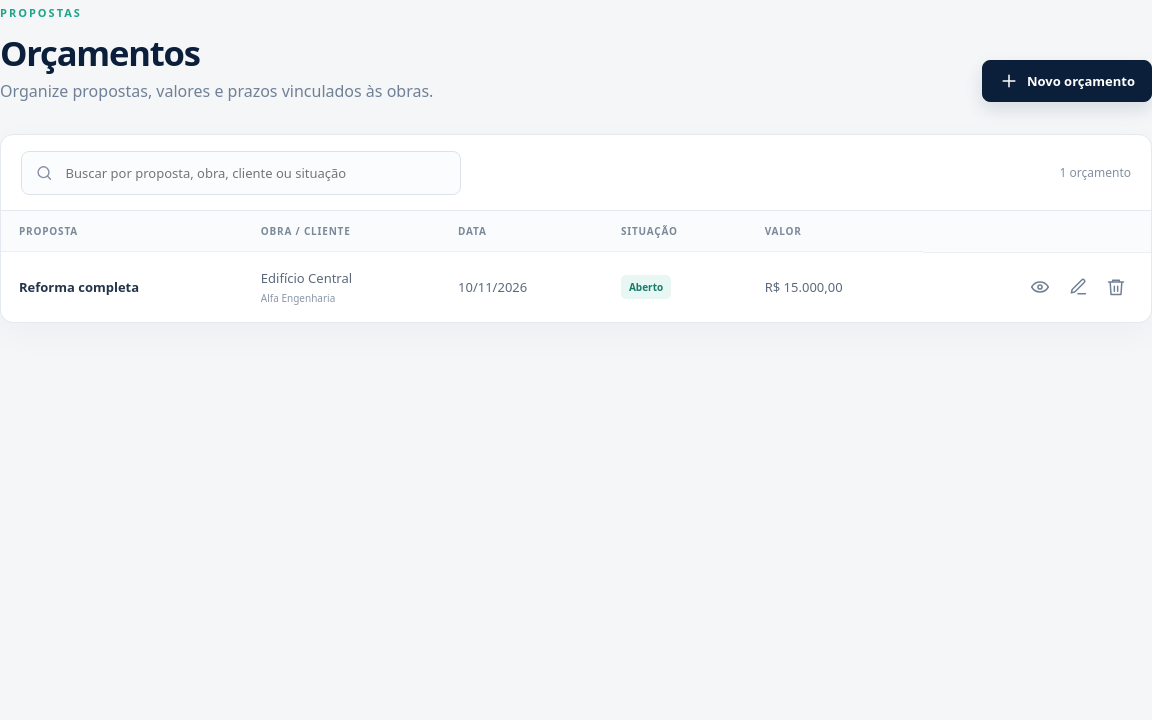
Test: módulo de orçamentos › avisa sobre remoção de itens e fluxos
Expected: the text "Reforma completa" is shown, [19,278,139,296]
Click the button named "Excluir Reforma completa". click: {"x": 1116, "y": 288}
box: [1098,270,1133,305]
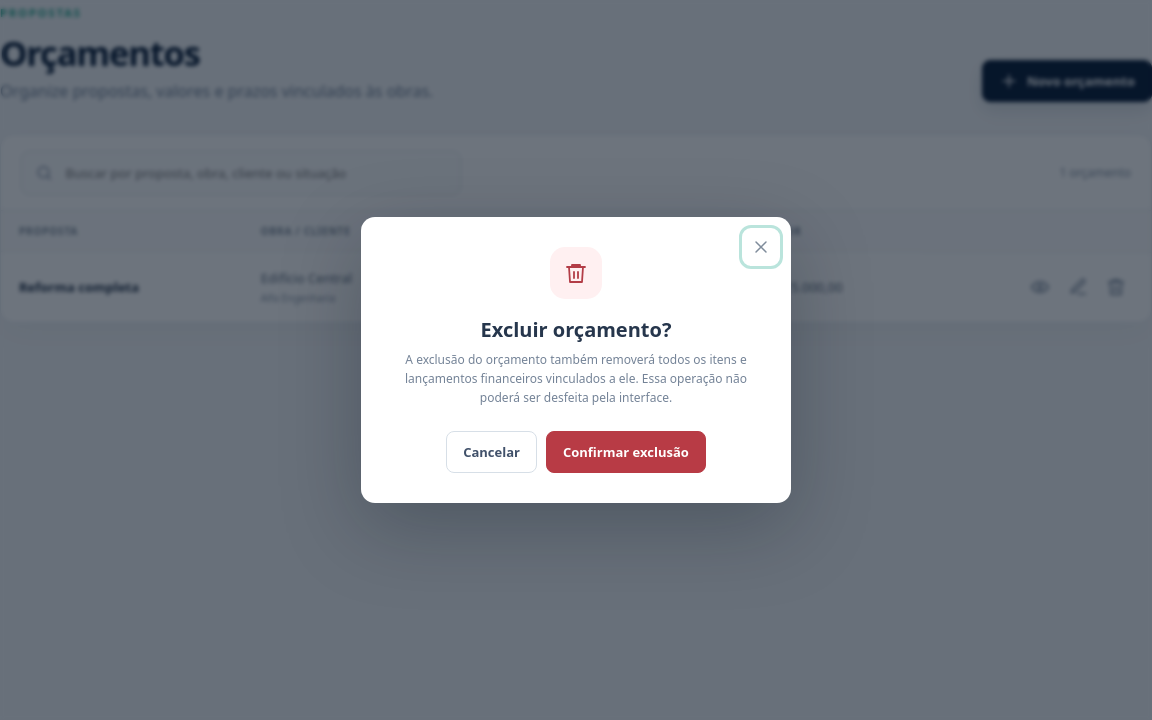
Now the dialog shows "também removerá todos os itens e lançamentos financeiros", box [405,351,747,406]
